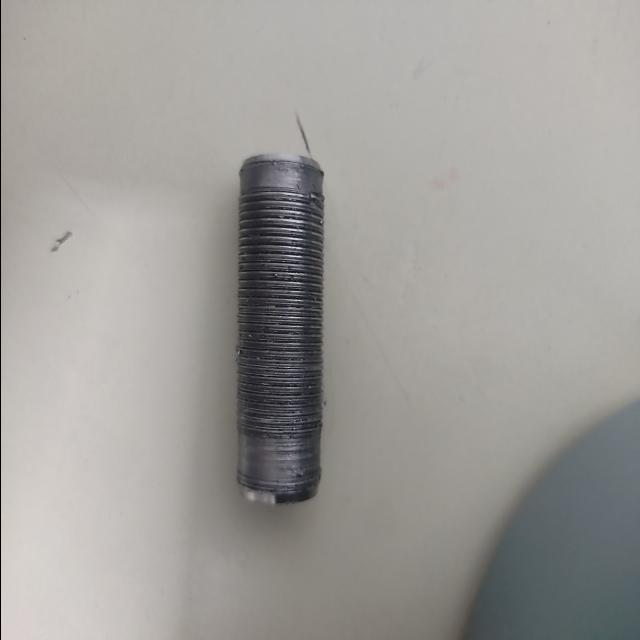Broken: (234, 152, 324, 504)
